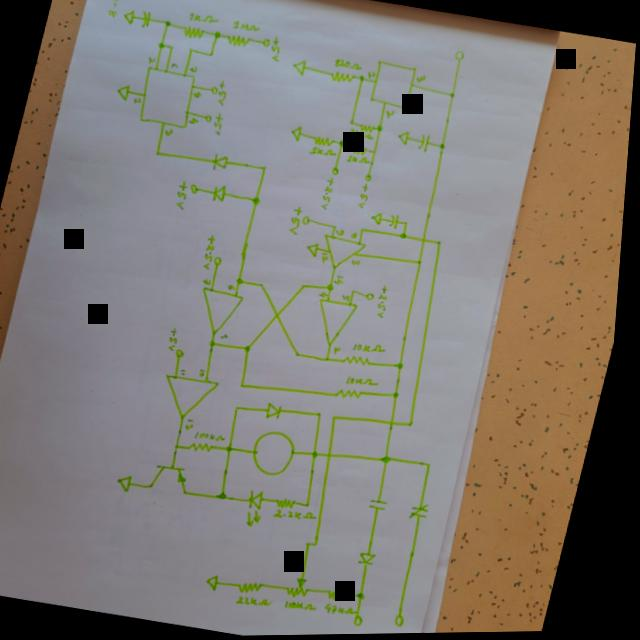capacitor: (419, 131, 435, 154), (138, 8, 154, 28), (390, 211, 405, 231)
crossover: (277, 308, 288, 320), (394, 419, 403, 428), (333, 451, 342, 459), (424, 236, 431, 244)
diode: (249, 487, 276, 530), (267, 399, 291, 423), (211, 151, 233, 172), (363, 549, 386, 568), (214, 181, 233, 202)
ground: (121, 470, 143, 494), (115, 81, 135, 101), (212, 572, 231, 592), (292, 56, 311, 76), (307, 239, 325, 259), (121, 5, 137, 26), (290, 123, 307, 142), (397, 129, 413, 146), (373, 210, 388, 227)
inductor: (254, 427, 307, 478)
junction: (253, 194, 266, 206), (364, 590, 377, 602), (211, 337, 224, 349), (388, 453, 400, 465), (225, 490, 236, 501), (377, 123, 388, 134), (332, 165, 344, 175), (239, 275, 250, 285), (401, 361, 411, 371), (164, 18, 173, 28), (449, 91, 459, 100), (431, 460, 441, 469), (440, 142, 450, 151), (248, 344, 258, 353), (244, 380, 254, 389), (261, 280, 271, 289), (318, 449, 327, 459), (330, 282, 340, 291), (232, 444, 241, 453), (214, 30, 223, 39), (397, 391, 406, 400), (413, 420, 422, 429), (158, 40, 167, 49), (348, 117, 358, 125), (322, 410, 331, 418), (337, 413, 346, 421), (239, 404, 248, 412), (403, 232, 412, 240), (312, 539, 321, 547), (420, 258, 429, 266), (320, 540, 329, 548), (263, 163, 271, 171), (180, 442, 188, 450), (156, 149, 165, 156), (340, 139, 349, 146), (439, 239, 447, 246), (209, 50, 216, 58), (189, 46, 196, 54), (300, 350, 307, 358), (312, 500, 319, 508), (405, 220, 413, 227), (305, 282, 312, 289), (330, 355, 337, 362), (169, 44, 176, 51), (355, 288, 362, 295), (359, 75, 366, 82), (373, 149, 381, 155)
resistor: (294, 574, 322, 599), (245, 576, 276, 596), (348, 351, 381, 369), (341, 384, 372, 402), (226, 30, 254, 48), (182, 22, 209, 40), (333, 585, 359, 603), (195, 439, 224, 455), (330, 69, 359, 85), (314, 134, 339, 148), (283, 496, 305, 511), (351, 143, 372, 157), (360, 120, 378, 133)
switch: (416, 502, 440, 522), (374, 496, 399, 514)
terminal: (403, 614, 416, 628), (261, 35, 274, 49), (179, 347, 193, 359), (455, 49, 467, 62), (362, 615, 375, 627), (369, 290, 381, 302), (305, 213, 316, 226), (216, 255, 227, 266), (192, 182, 203, 193), (212, 84, 221, 95), (206, 113, 214, 123), (367, 173, 377, 181)
text: (279, 504, 325, 525), (203, 232, 224, 269), (244, 591, 284, 610), (321, 174, 341, 212), (378, 282, 398, 319), (331, 600, 368, 619), (354, 339, 393, 357), (198, 426, 234, 444), (351, 373, 387, 390), (175, 178, 194, 210), (290, 204, 309, 236), (187, 9, 221, 26), (293, 598, 328, 614), (170, 325, 189, 353), (267, 35, 286, 61), (232, 18, 262, 34), (214, 79, 232, 105), (333, 57, 364, 72), (311, 144, 341, 159), (359, 182, 375, 209), (347, 152, 375, 166), (212, 112, 228, 136), (105, 0, 126, 18), (351, 128, 377, 140), (337, 226, 354, 238), (337, 273, 351, 286), (201, 366, 214, 378), (165, 125, 178, 137), (386, 107, 399, 119), (228, 281, 241, 293), (205, 274, 218, 286), (191, 417, 203, 429), (416, 73, 428, 85), (323, 252, 335, 264), (133, 95, 147, 105), (187, 64, 199, 75), (322, 289, 334, 300), (147, 54, 158, 65), (368, 69, 379, 80), (193, 89, 204, 99), (191, 116, 202, 126), (170, 60, 181, 70), (338, 344, 349, 354), (224, 332, 235, 341), (354, 258, 365, 267), (346, 293, 355, 302), (185, 366, 194, 375), (354, 231, 363, 240)
transistor: (155, 460, 201, 496)
